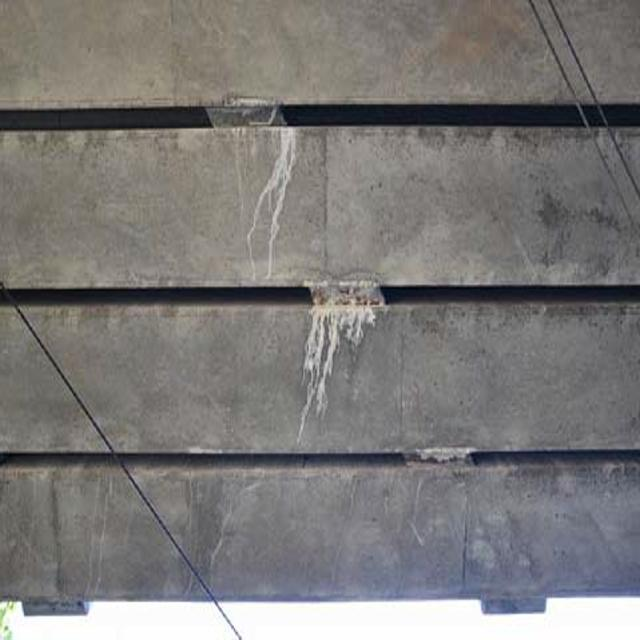freelime: (221, 94, 313, 247), (303, 266, 380, 400)
